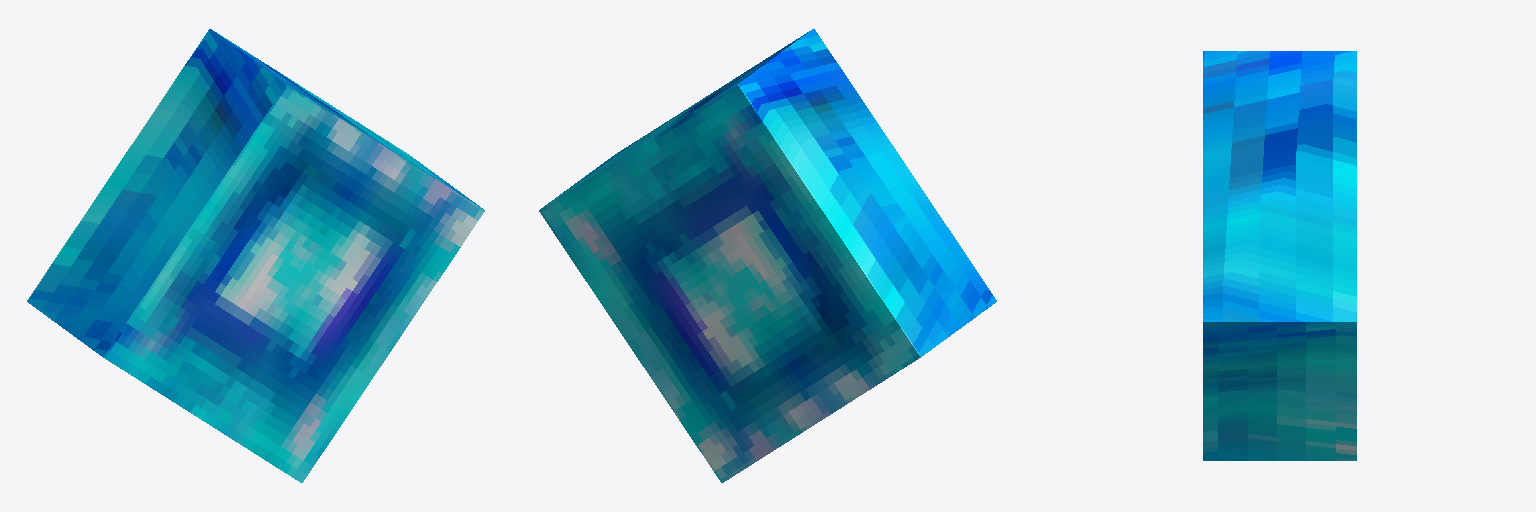
The picture shows the model from 3 angles: view 1: azimuth 30°, elevation 25°; view 2: azimuth 150°, elevation 25°; view 3: azimuth 270°, elevation 25°; orthographic projection.
Visible parts, largest first — view 1: Box07; view 2: Box07; view 3: Box07.
Boxes of the visible parts, x1,y1,x2,y2 form: Box07: [27, 29, 484, 482]; Box07: [539, 29, 996, 482]; Box07: [1203, 51, 1356, 460].
Bounding box in the file's own units: 3.64 × 3.67 × 1.26.
1 materials, 1 textured.